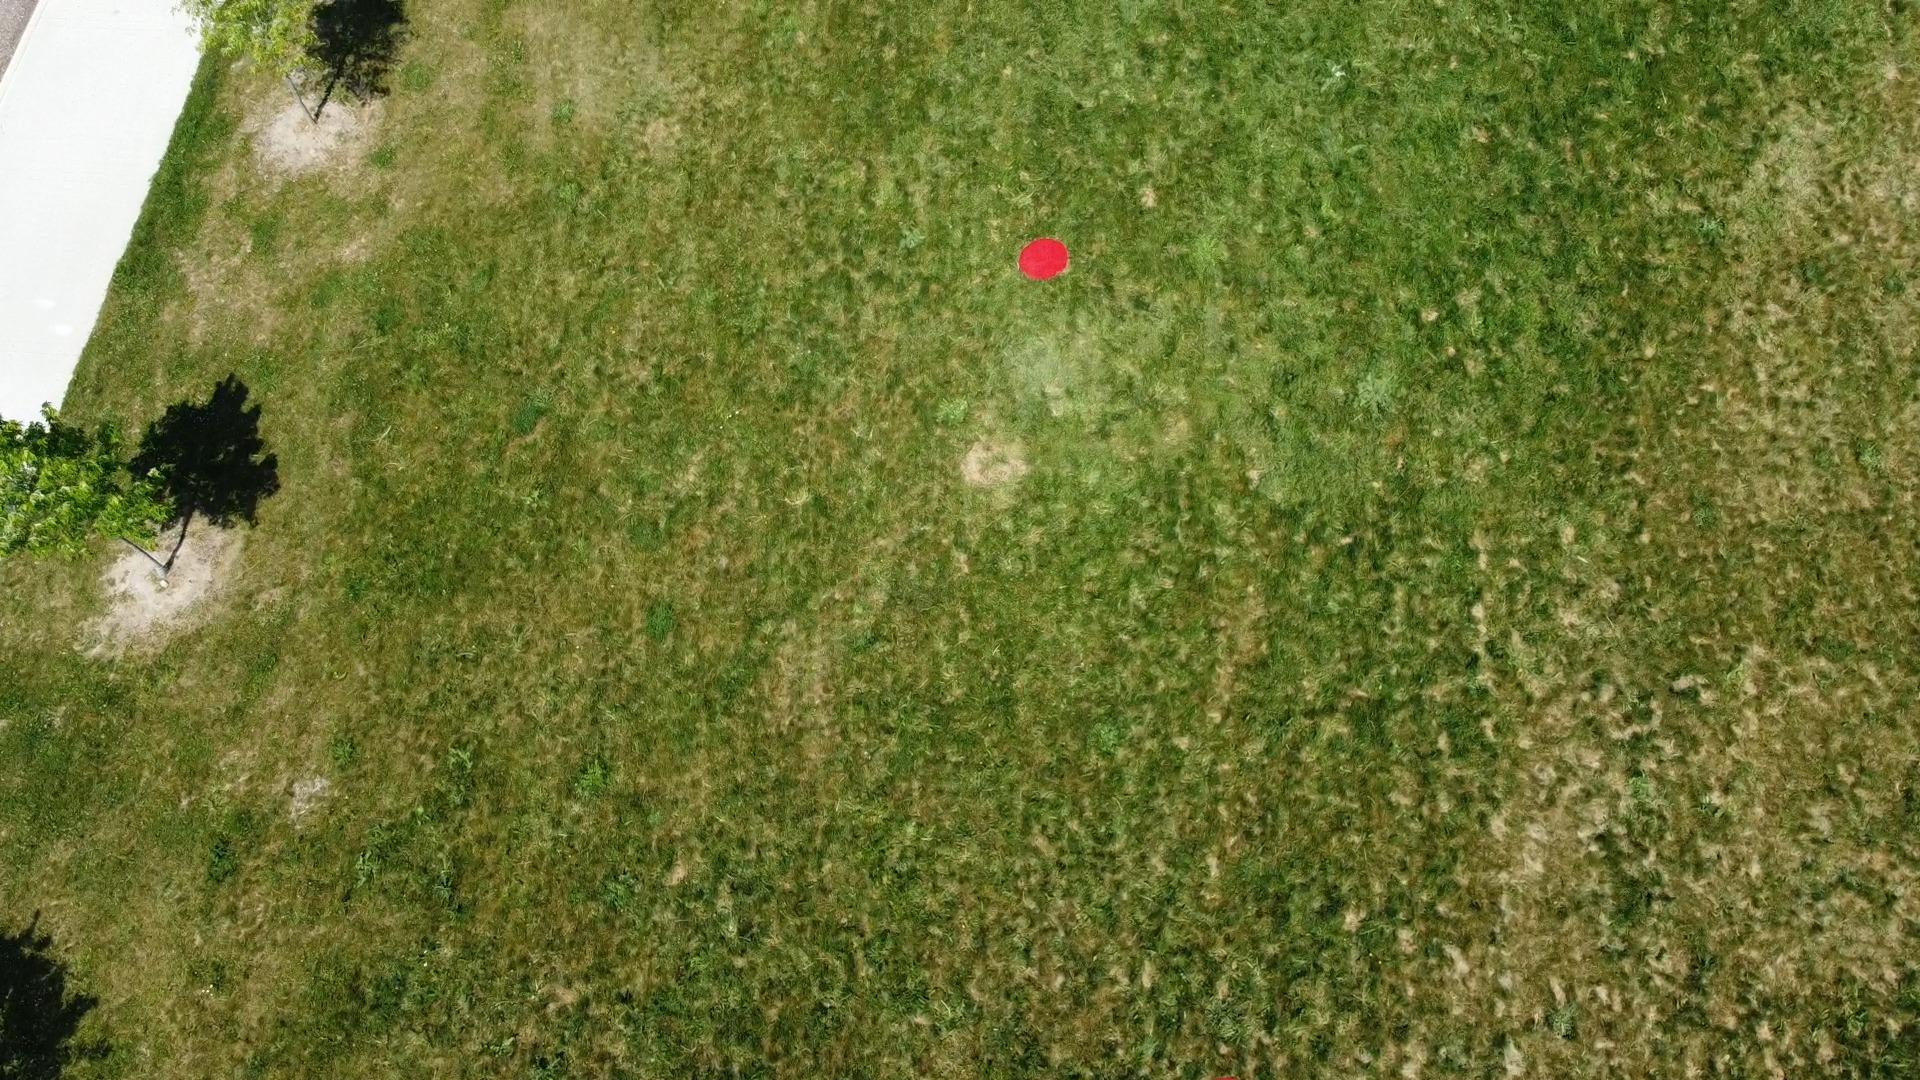Red: (1017, 236, 1071, 282)
